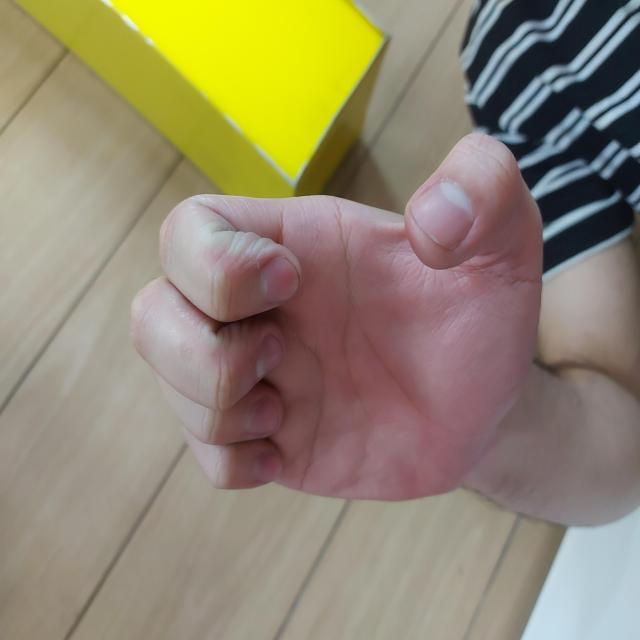E: (135, 126, 511, 545)
